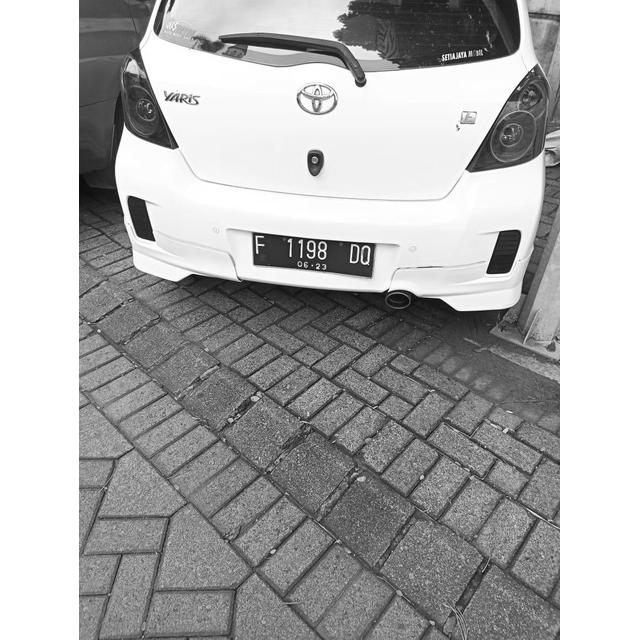license: (254, 233, 372, 276)
